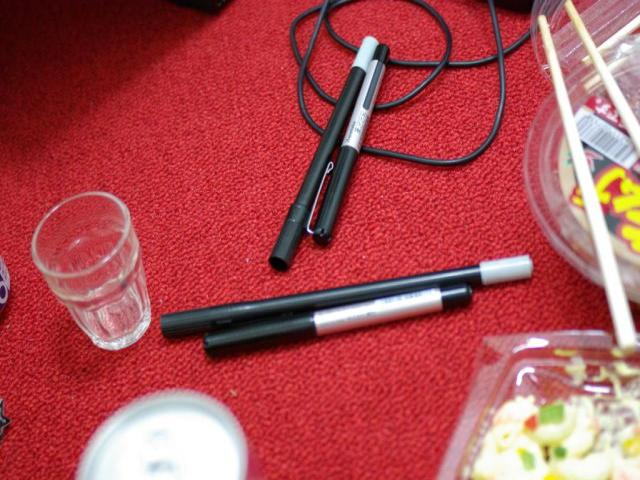PEN: (155, 256, 543, 360), (260, 37, 388, 286)
